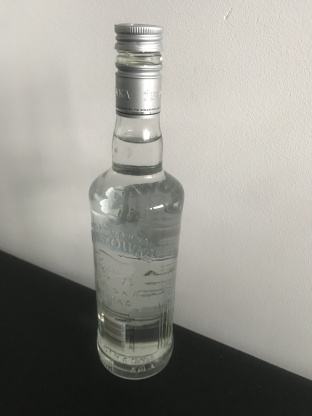nakretka: (113, 22, 164, 119)
